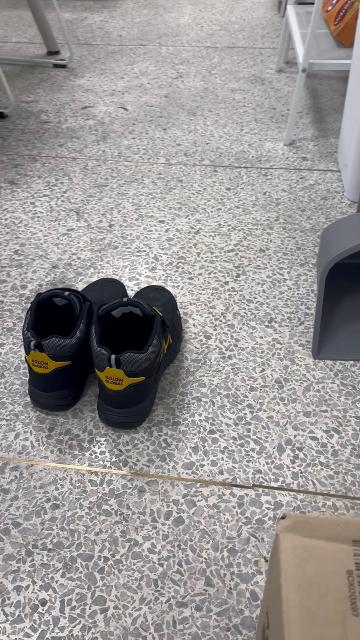shoe_worn: (25, 277, 127, 415), (92, 287, 184, 435)
